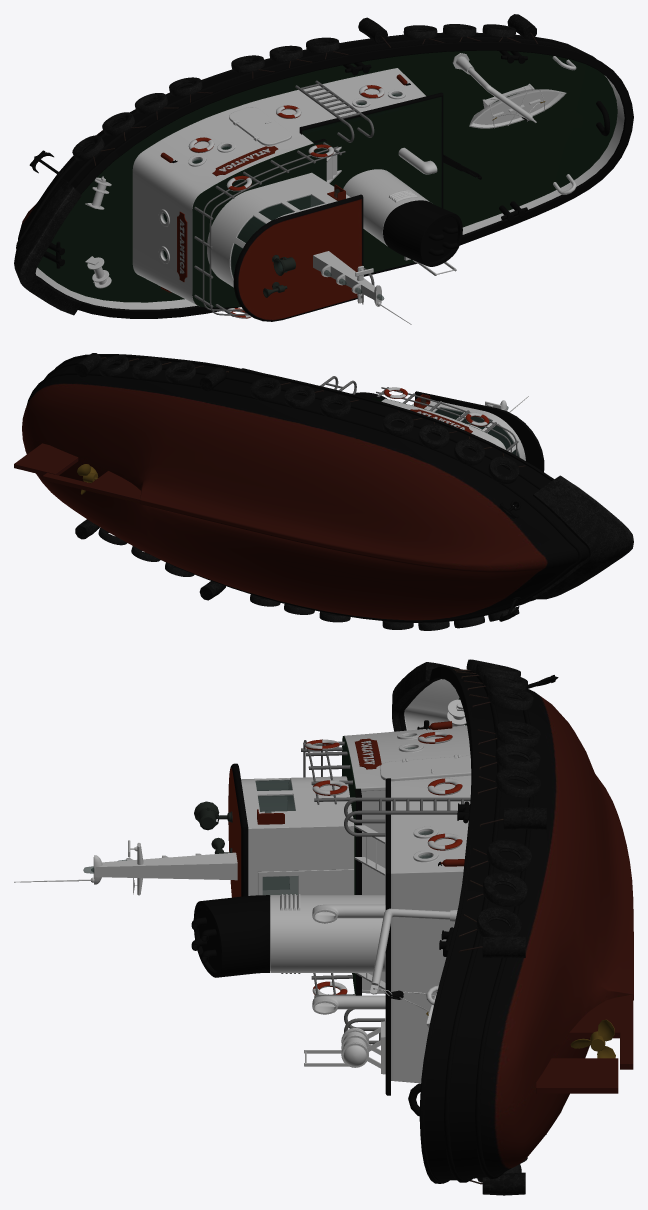
Rendered from 12219_boat_v2_L2.obj.
3 renders of one model, top to bottom at view 1: azimuth 30°, elevation 25°; view 2: azimuth 150°, elevation 25°; view 3: azimuth 270°, elevation 25°, orthographic. The views are drawn at different scales.
Parts seen in each view (by area): view 1: boat_body, boat_roof_accessory, boat_elements_04_white, boat_tires, boat_chopping_wight, boat_elements_01_black, boat_front, boat_fences_silver, boat_sailing_boat_01_white, boat_elements_06_black, boat_elements_05_white, boat_roof_floating_donuts (+6 smaller); view 2: boat_body, boat_tires, boat_front, boat_roof_accessory, boat_buffer, boat_fences_silver, boat_chopping_wight, boat_elements_04_white, boat_chopping_glass, boat_roof_floating_donuts; view 3: boat_body, boat_elements_04_white, boat_chopping_wight, boat_tires, boat_roof_accessory, boat_elements_01_black, boat_fences_silver, boat_mast_01_white, boat_buffer, boat_roof_floating_donuts, boat_chopping_glass, boat_elements_05_white (+4 smaller).
Boxes of the visible parts, x1,y1,x2,y2 form: boat_body: (16, 32, 633, 318); boat_roof_accessory: (160, 74, 443, 321); boat_elements_04_white: (132, 68, 437, 306); boat_tires: (72, 24, 520, 165); boat_chopping_wight: (207, 146, 350, 287); boat_elements_01_black: (383, 200, 462, 266); boat_front: (14, 178, 81, 315); boat_fences_silver: (194, 80, 374, 316); boat_sailing_boat_01_white: (469, 85, 566, 128); boat_elements_06_black: (29, 51, 609, 268); boat_elements_05_white: (452, 53, 576, 194); boat_roof_floating_donuts: (188, 85, 384, 318); boat_body: (14, 354, 588, 622); boat_tires: (98, 355, 525, 630); boat_front: (533, 475, 633, 599); boat_roof_accessory: (242, 368, 544, 471); boat_buffer: (75, 353, 228, 600); boat_fences_silver: (320, 376, 518, 455); boat_chopping_wight: (412, 401, 525, 460); boat_elements_04_white: (381, 398, 506, 449); boat_chopping_glass: (435, 407, 519, 456); boat_roof_floating_donuts: (384, 387, 489, 426); boat_body: (399, 666, 633, 1183); boat_elements_04_white: (270, 725, 471, 1083); boat_chopping_wight: (241, 776, 385, 989); boat_tires: (453, 659, 540, 1182); boat_roof_accessory: (194, 721, 464, 1095); boat_elements_01_black: (193, 895, 269, 977); boat_fences_silver: (133, 739, 470, 1044); boat_mast_01_white: (14, 840, 237, 882); boat_buffer: (458, 807, 546, 1195); boat_roof_floating_donuts: (305, 731, 462, 995); boat_chopping_glass: (255, 779, 298, 896); boat_elements_05_white: (369, 908, 457, 1016).
Size of the model in its own units: 1759 by 645 by 1113.
Materials: 8 (3 with a texture image).
